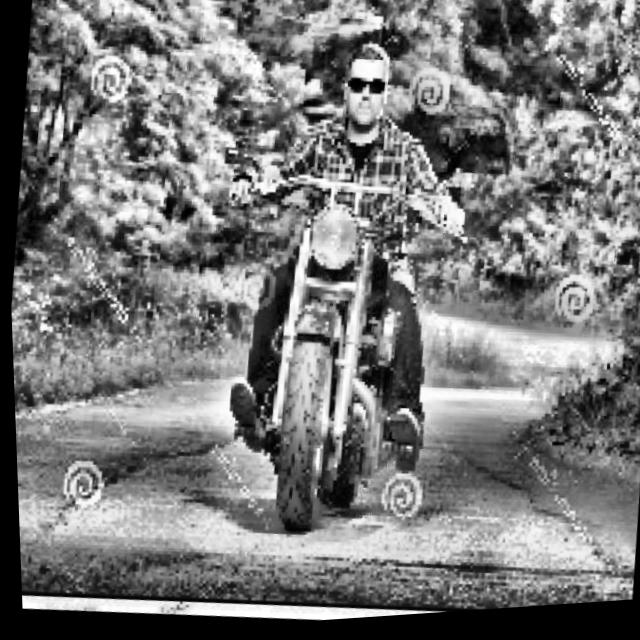motorcycle: (151, 113, 520, 579)
